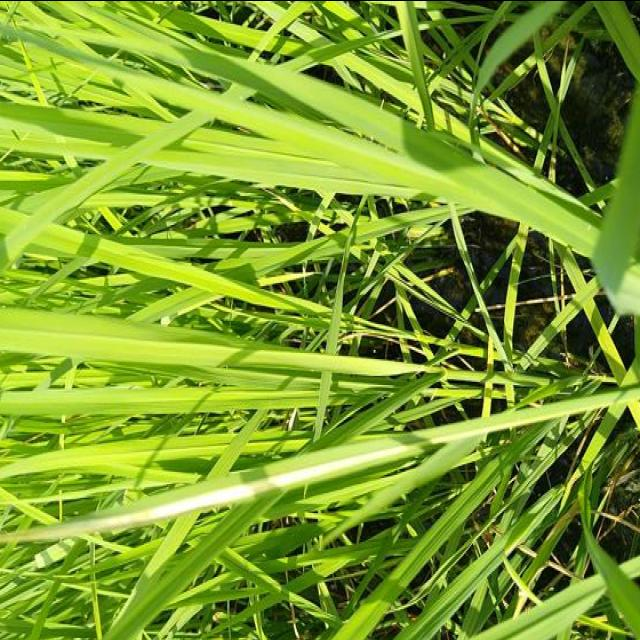Leaf Blight: (0, 437, 440, 539)
